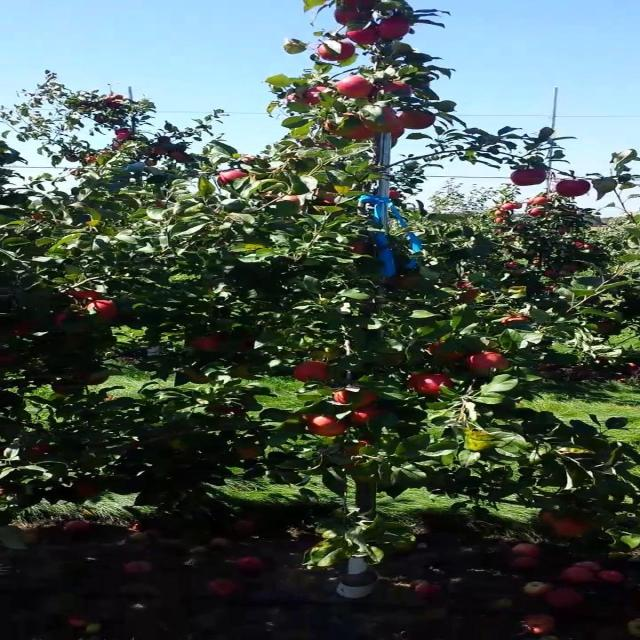apple: (369, 108, 404, 138), (468, 352, 512, 375), (305, 416, 348, 438), (333, 388, 379, 408), (412, 376, 455, 397), (340, 76, 377, 100), (291, 364, 332, 384), (397, 112, 439, 131), (326, 112, 359, 136), (84, 300, 121, 321), (56, 312, 92, 333), (511, 168, 548, 188), (426, 344, 466, 362), (319, 44, 356, 63), (554, 180, 590, 199), (376, 116, 405, 139), (369, 108, 400, 128), (554, 520, 588, 538), (348, 408, 384, 425), (383, 20, 412, 40), (348, 464, 375, 485), (348, 28, 380, 45), (13, 320, 43, 338), (454, 284, 482, 303), (383, 80, 414, 97), (191, 336, 222, 352), (348, 124, 377, 141), (333, 12, 368, 26), (77, 372, 108, 387), (305, 88, 332, 105), (390, 276, 420, 291), (348, 440, 372, 458), (212, 404, 247, 416), (220, 172, 249, 185), (184, 372, 215, 384), (348, 240, 370, 256), (70, 292, 103, 302), (28, 444, 53, 457), (504, 316, 532, 327), (77, 484, 100, 497), (319, 192, 338, 207), (241, 448, 263, 460), (291, 92, 309, 106), (348, 0, 375, 9), (540, 512, 560, 524), (241, 336, 256, 352), (56, 312, 71, 328), (276, 196, 302, 204), (6, 352, 21, 365), (56, 384, 71, 396), (390, 192, 402, 200)
